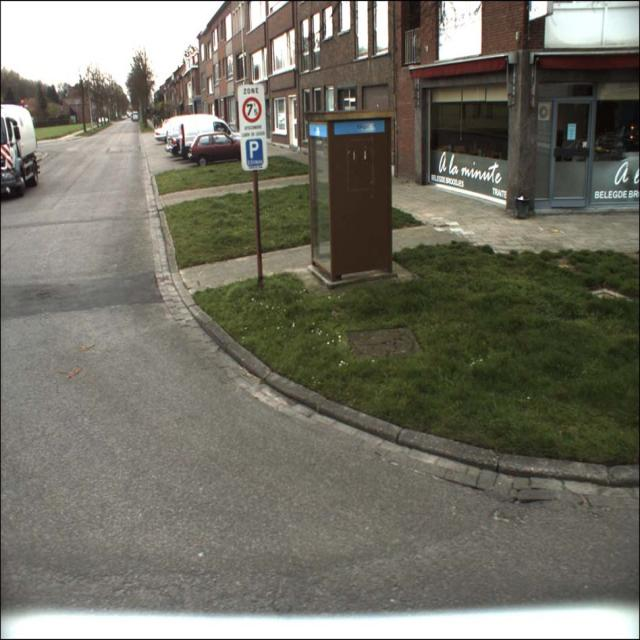park: (246, 138, 264, 165)
